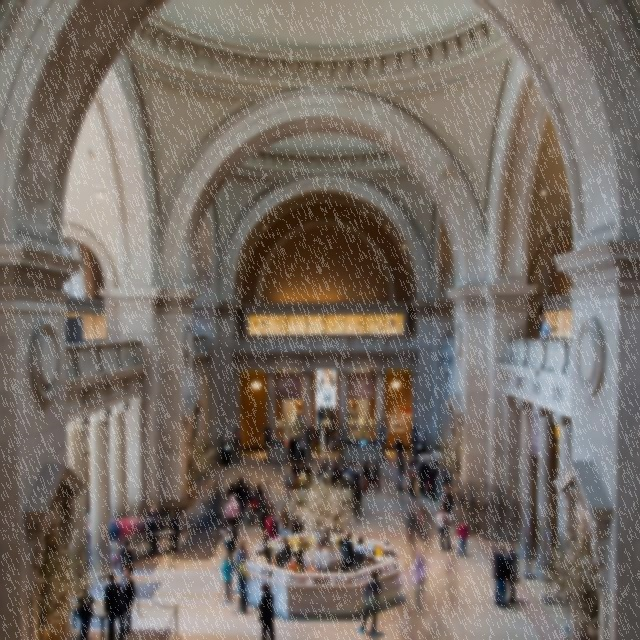pessoa: (404, 500, 434, 610), (354, 569, 382, 635), (316, 452, 364, 490), (405, 456, 443, 502), (403, 609, 460, 639), (102, 570, 126, 639), (376, 452, 404, 507), (443, 548, 466, 611), (234, 550, 254, 620), (116, 514, 144, 560), (74, 581, 96, 639), (120, 565, 138, 634), (316, 402, 340, 452), (256, 582, 277, 639), (490, 540, 508, 604), (492, 546, 510, 608), (434, 506, 456, 554), (221, 492, 242, 542), (253, 536, 277, 579), (506, 546, 522, 607), (80, 509, 96, 569), (218, 521, 236, 573), (539, 312, 554, 370), (108, 512, 123, 570), (268, 536, 289, 576), (258, 498, 274, 550), (144, 508, 162, 554), (222, 552, 237, 607), (274, 534, 296, 570), (274, 516, 294, 554), (263, 502, 279, 548), (232, 479, 248, 522), (167, 508, 181, 556), (456, 516, 470, 558), (244, 488, 258, 530), (234, 476, 249, 515), (278, 503, 293, 542), (314, 541, 331, 574), (252, 480, 265, 522), (340, 530, 356, 562), (440, 484, 456, 516), (396, 450, 408, 492), (291, 497, 306, 530), (286, 431, 298, 472), (353, 534, 372, 558), (282, 460, 293, 500), (296, 436, 308, 472), (242, 480, 256, 508), (409, 438, 429, 457), (120, 540, 134, 566), (291, 510, 305, 536), (392, 436, 404, 466), (371, 458, 382, 488), (291, 436, 302, 466), (284, 554, 300, 573), (304, 558, 320, 574), (263, 478, 274, 500), (226, 481, 235, 502), (362, 476, 372, 494), (361, 460, 372, 476)
